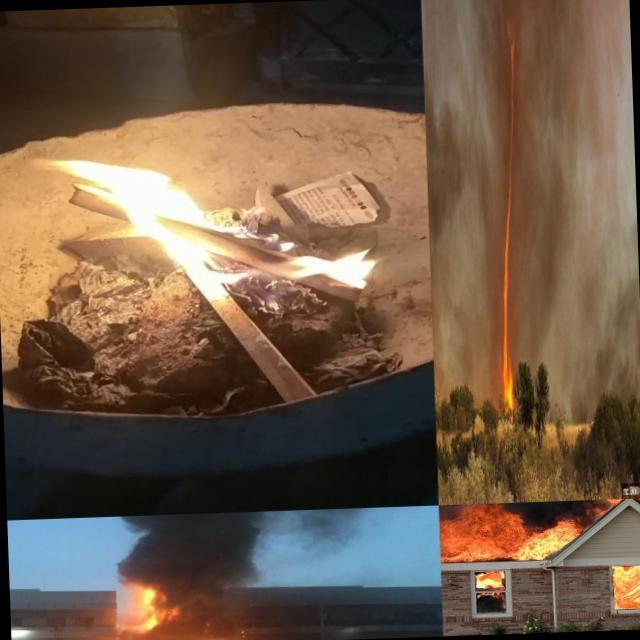fire: (38, 136, 388, 316), (489, 35, 528, 409), (438, 506, 584, 561), (609, 562, 640, 609), (141, 584, 174, 628), (475, 571, 507, 589), (95, 635, 120, 640)
smoke: (515, 0, 640, 370), (421, 0, 501, 391), (106, 505, 440, 583), (174, 577, 258, 627), (122, 625, 243, 640)
